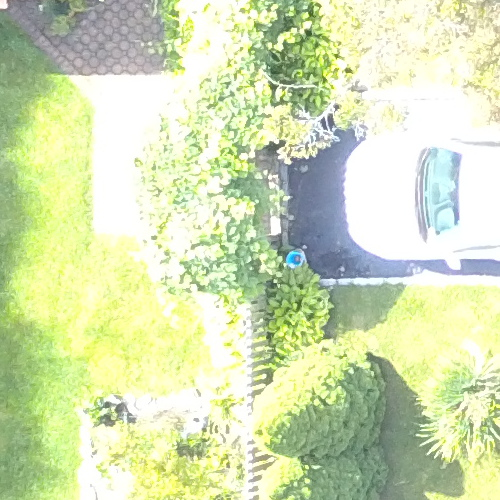container: (277, 244, 308, 273)
